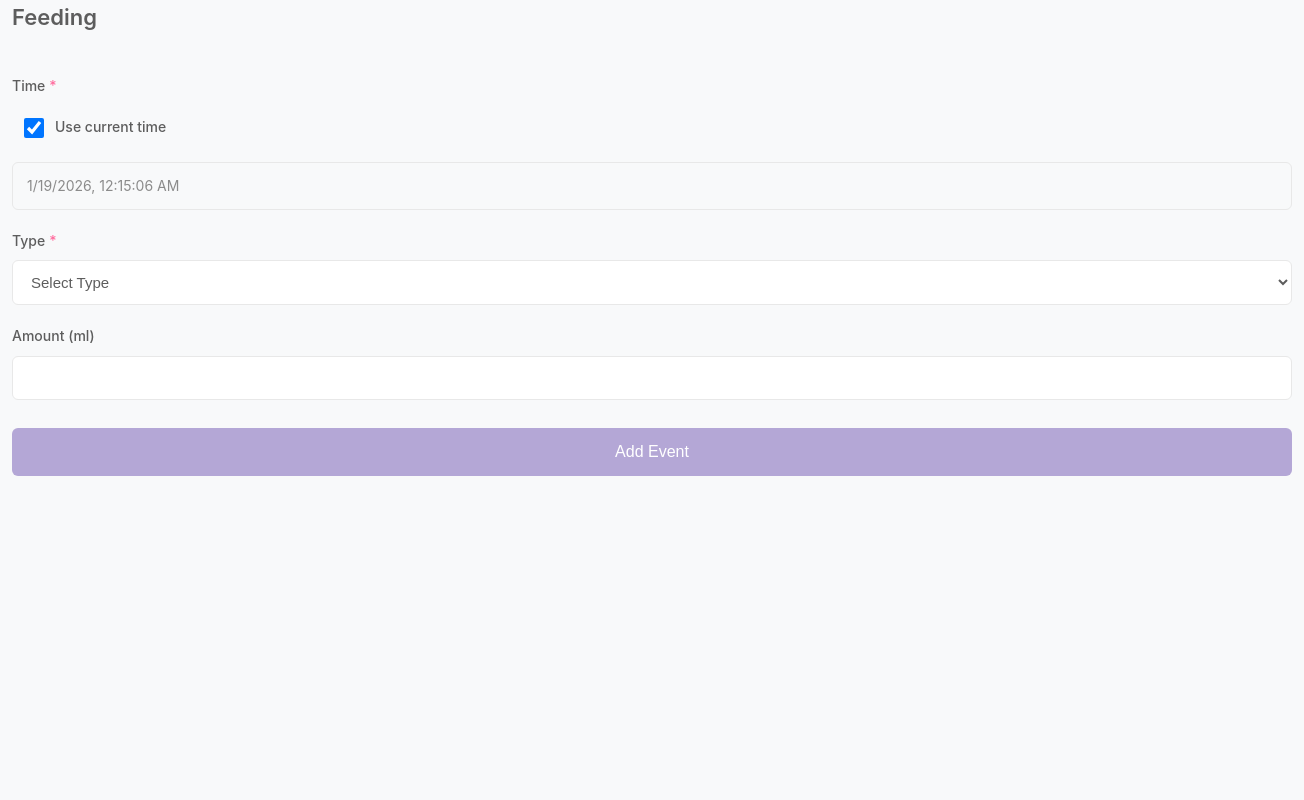
Test case: EventForm › validates required fields
The width and height of the screenshot is (1304, 800).
Click the button "Add Event" at (652, 452), box x1=12 y1=428 x2=1292 y2=476
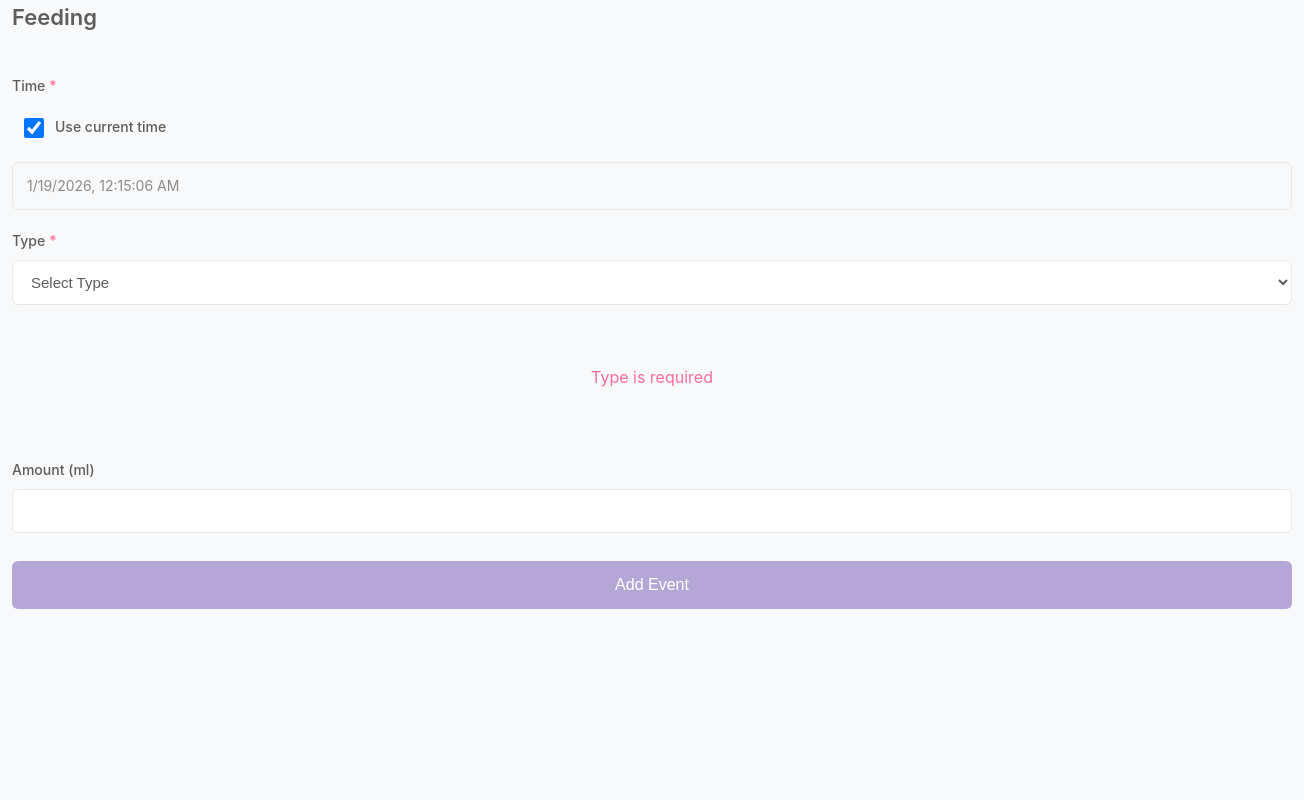
Expected: the text "Type is required" is shown, x1=591 y1=367 x2=713 y2=387
